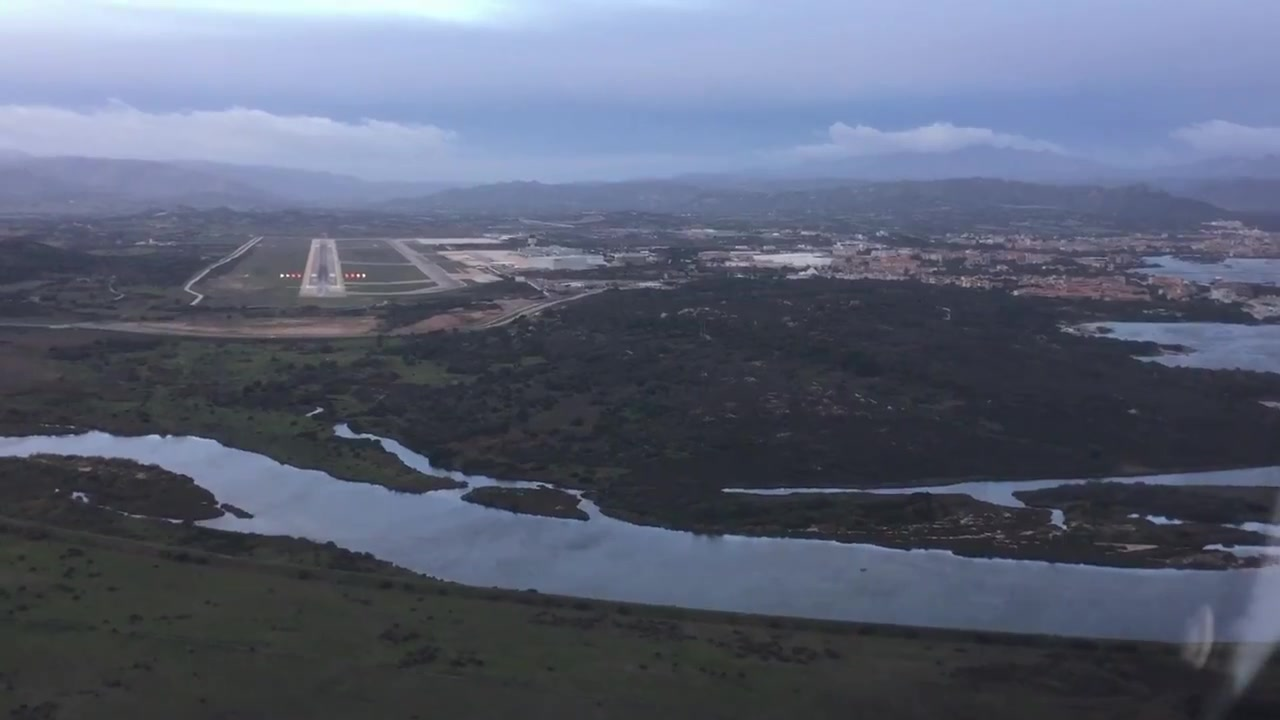runway: (298, 235, 342, 294)
